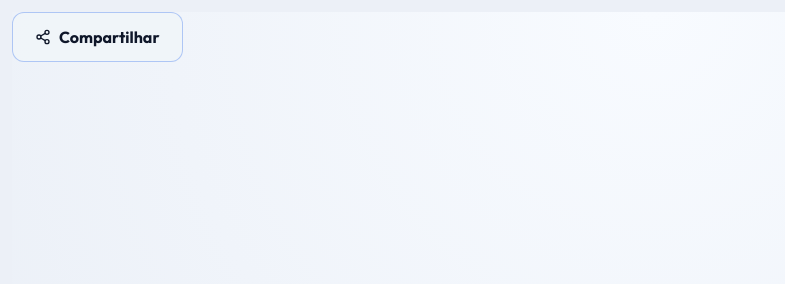
it: Compartilhar › sem folha do aparelho, abre o menu com WhatsApp e copiar link
The image size is (785, 284).
Click the button "Compartilhar" at (97, 37), box [12,12,182,62]
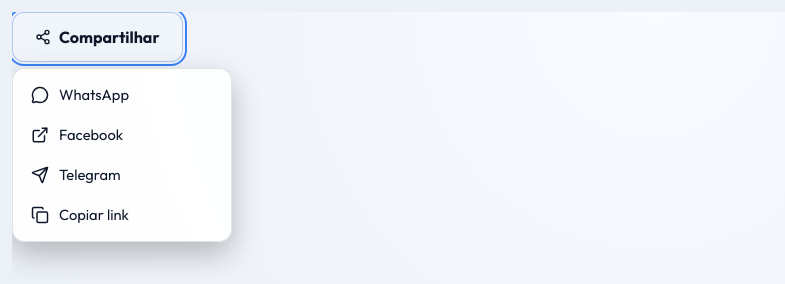
Result: the menu item "Copiar link" is shown at [19,195,225,235]
